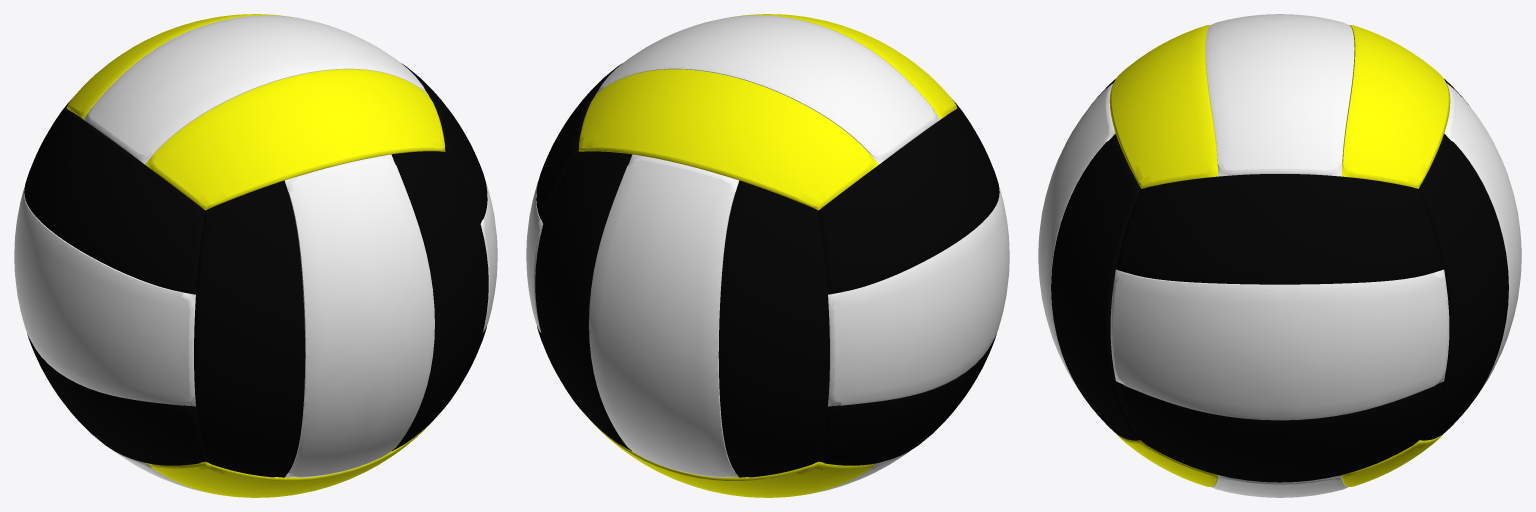
File: Ball.fbx
3 renders of one model, left to right at view 1: azimuth 30°, elevation 25°; view 2: azimuth 150°, elevation 25°; view 3: azimuth 270°, elevation 25°, orthographic.
Visible parts, largest first — view 1: Ball; view 2: Ball; view 3: Ball.
Part boxes in pixels (<box>): Ball: <box>14,14,497,497</box>; Ball: <box>526,14,1009,497</box>; Ball: <box>1038,14,1521,497</box>.
Bounding box in the file's own units: 208 × 208 × 208.
